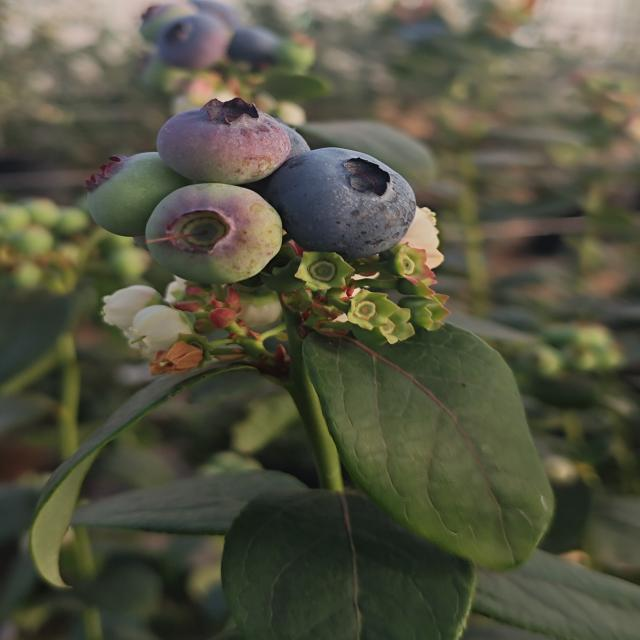ripe: (264, 145, 420, 260), (196, 0, 286, 74), (156, 12, 233, 72)
